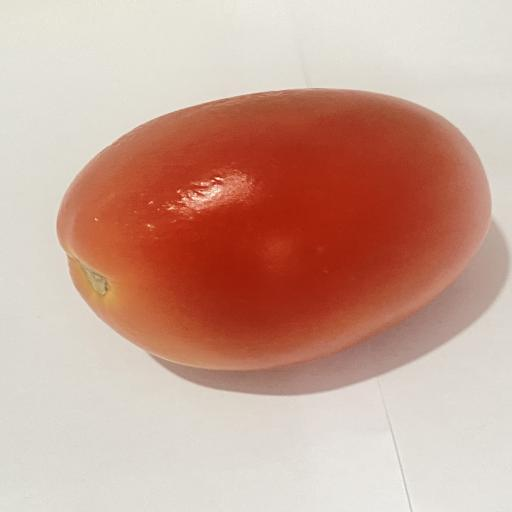spoiled: (58, 89, 490, 370)
